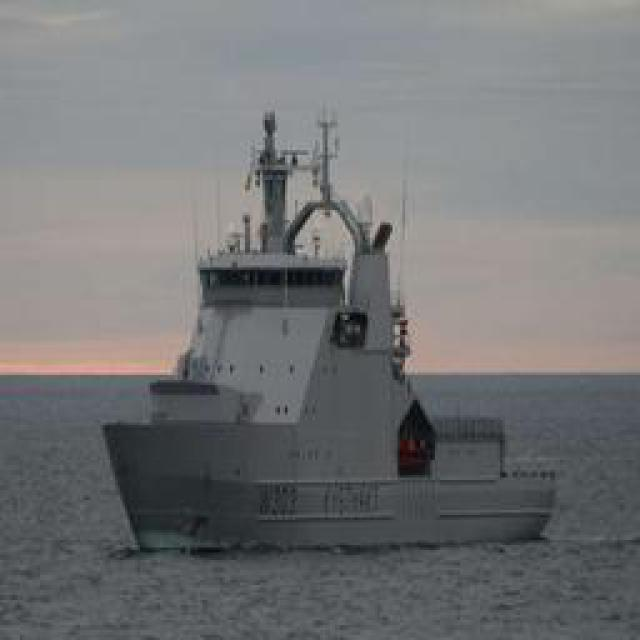Ship: (115, 88, 535, 553)
